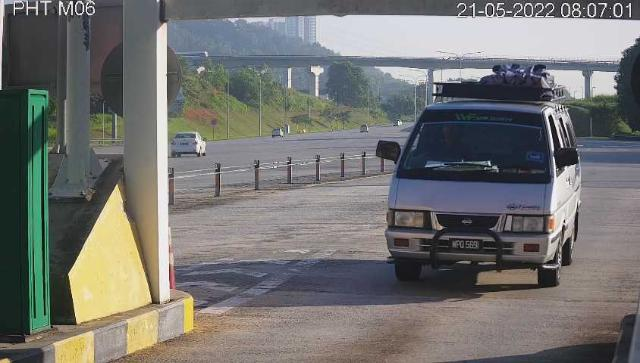License_Plate: (448, 238, 485, 256)
van: (387, 66, 583, 289)
